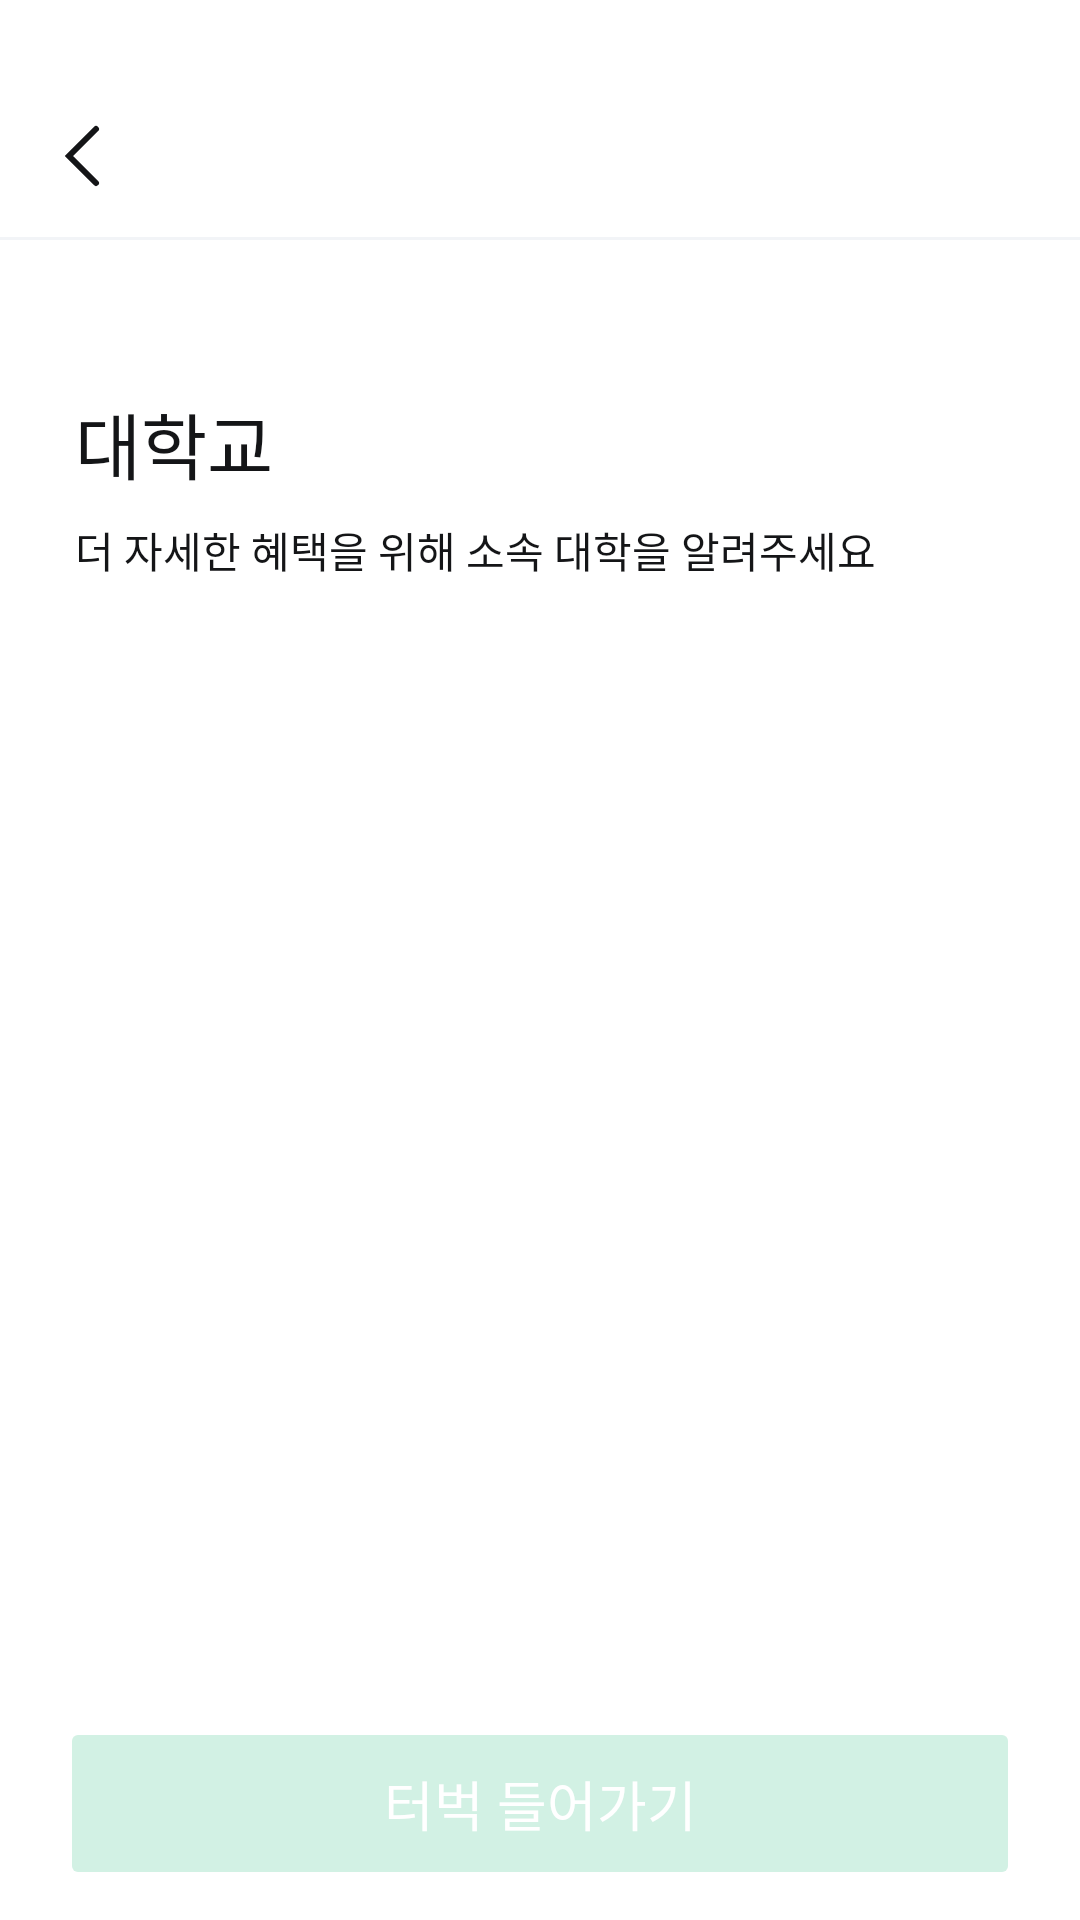

Where to tap for icons on this 1080w x 1920h app screen, as (x,y):
back: (82,155)
